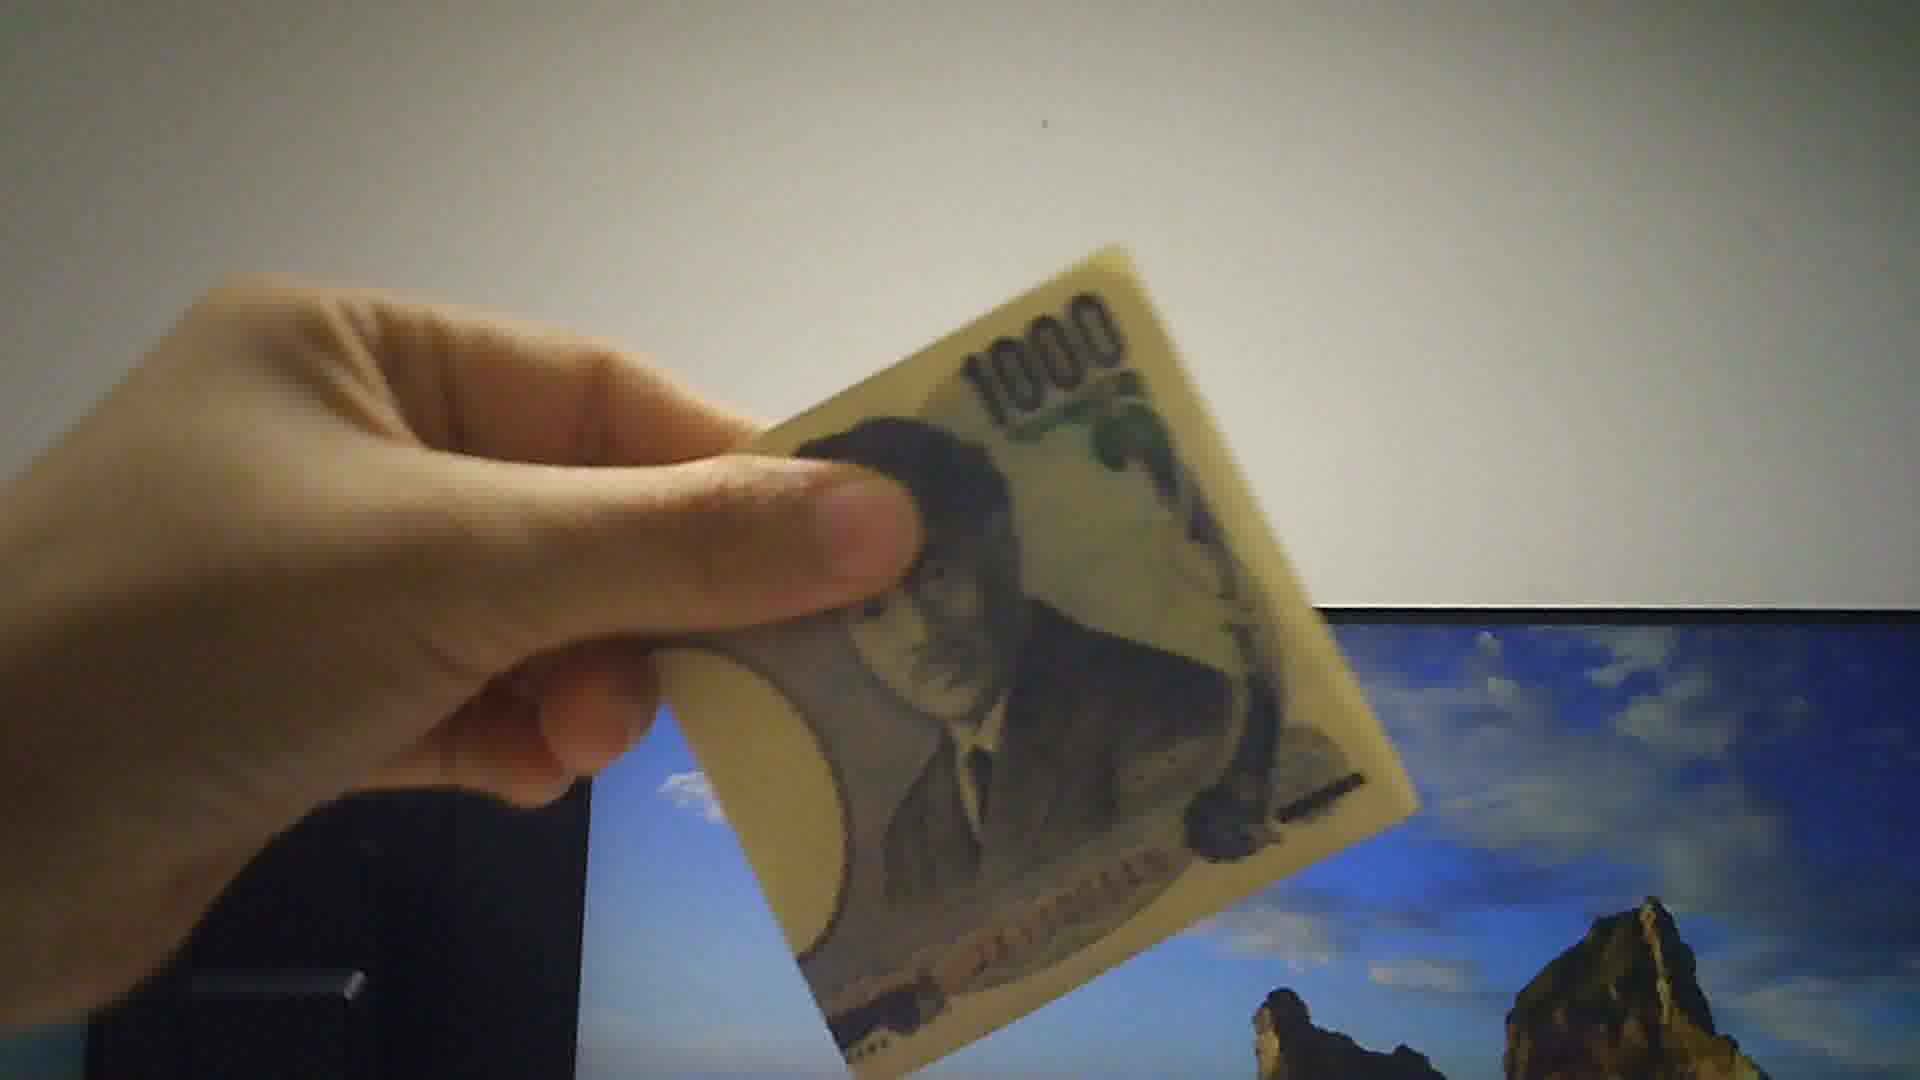1,000 Yen: (608, 251, 1425, 1079)
